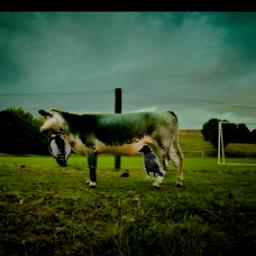Crow: (137, 145, 164, 181)
Woodpecker: (49, 131, 77, 168)
